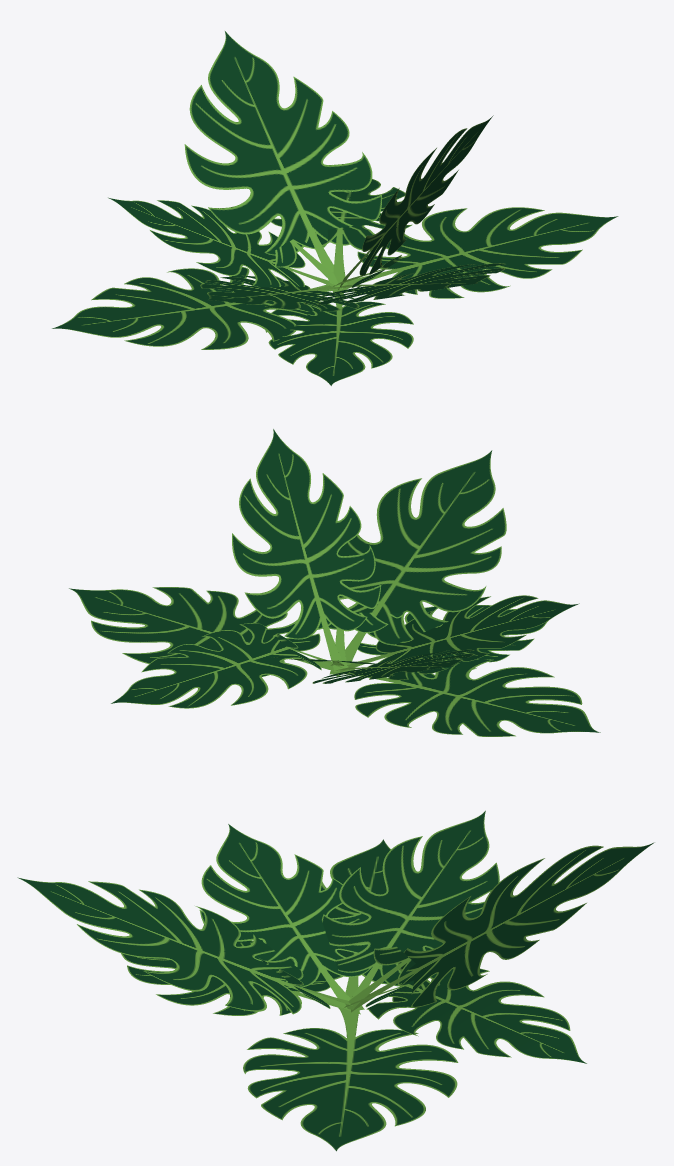
File: Palm4_LOD2.fbx
3 views of the same model, one above another, from view 1: azimuth 30°, elevation 25°; view 2: azimuth 150°, elevation 25°; view 3: azimuth 270°, elevation 25° (orthographic). The views are drawn at different scales.
Parts seen in each view (by area): view 1: Palm4_LOD2; view 2: Palm4_LOD2; view 3: Palm4_LOD2.
Part boxes in pixels (box(x1,y1,x2,y2)): Palm4_LOD2: box(52, 31, 618, 385); Palm4_LOD2: box(69, 429, 600, 736); Palm4_LOD2: box(17, 810, 654, 1151).
Size of the model in its own units: 678 by 217 by 600.
